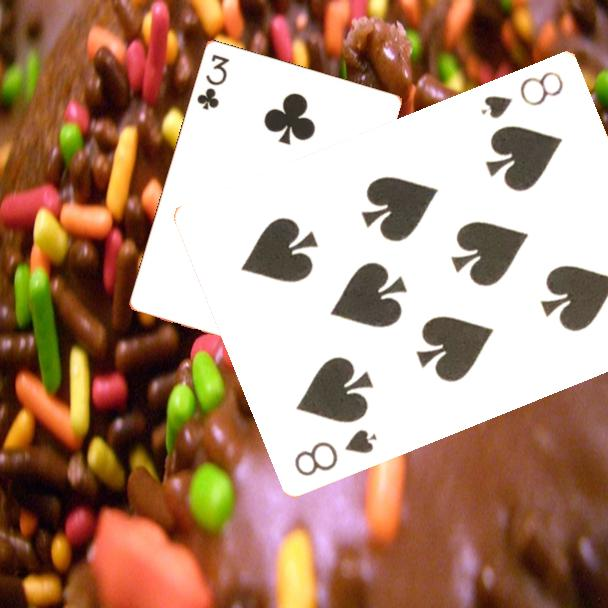c03: (193, 50, 232, 113)
s08: (477, 67, 567, 121), (291, 425, 380, 479)
